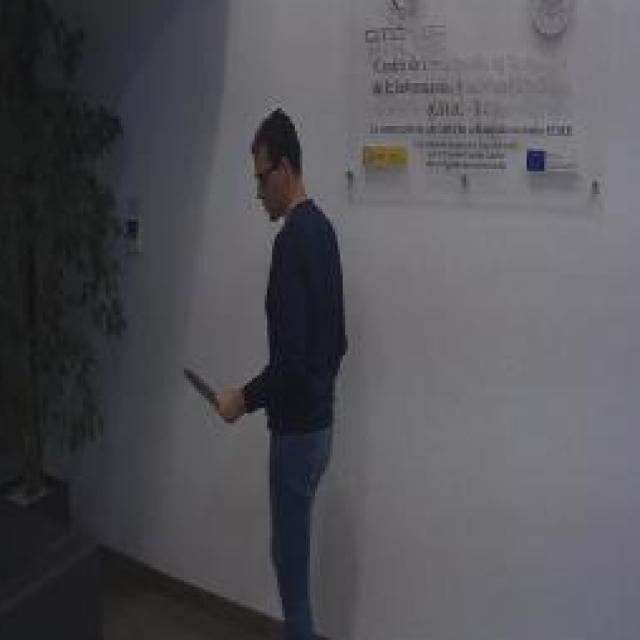knife: (182, 365, 230, 421)
